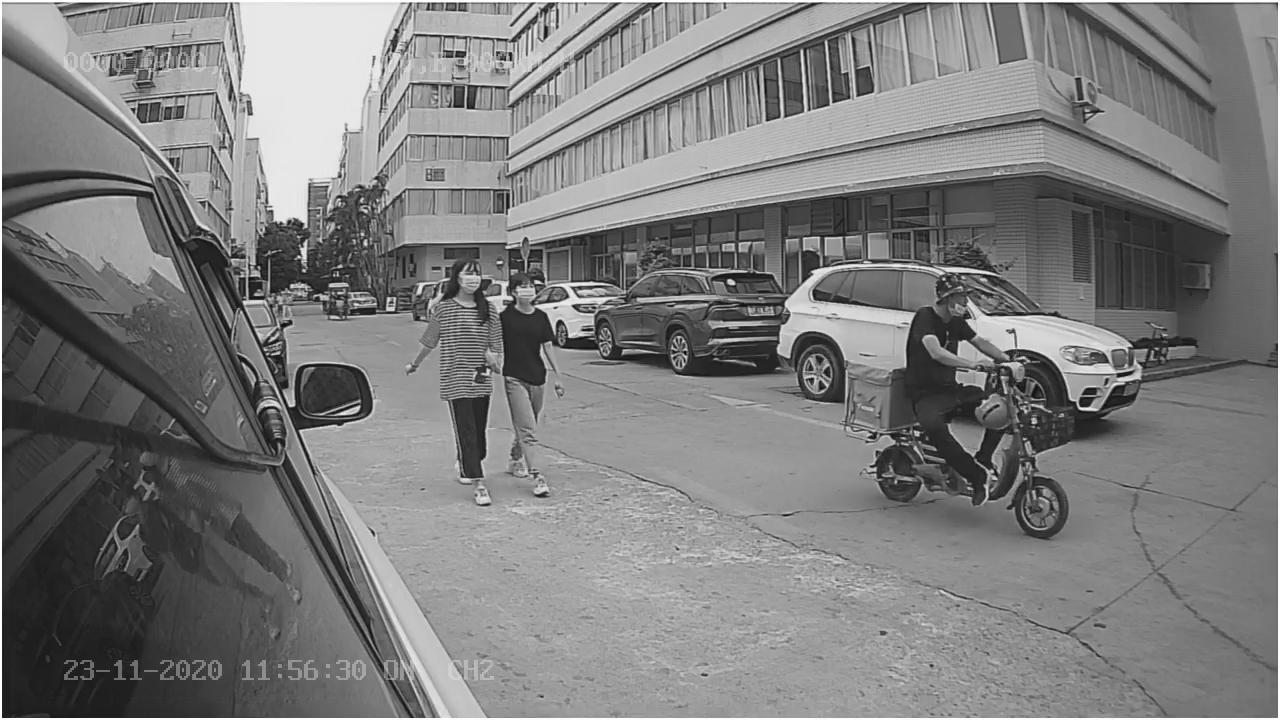person: (429, 257, 499, 509), (502, 260, 557, 501), (904, 270, 988, 371)
